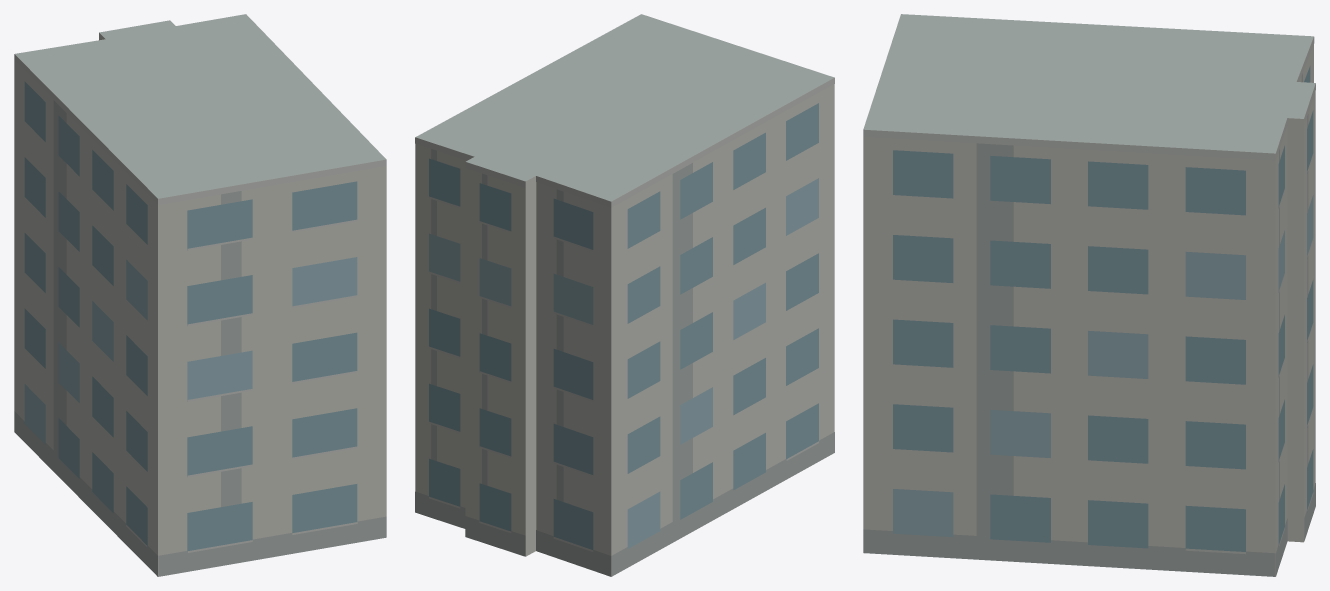
The model's file is survey-upis-32740489.glb.
3 views of the same model, side by side, from view 1: azimuth 30°, elevation 25°; view 2: azimuth 150°, elevation 25°; view 3: azimuth 270°, elevation 25° (orthographic). The views are drawn at different scales.
Parts seen in each view (by area): view 1: survey-upis-32740489.tmp; view 2: survey-upis-32740489.tmp; view 3: survey-upis-32740489.tmp.
Boxes of the visible parts, x1=… form: survey-upis-32740489.tmp: x1=14, y1=14, x2=386, y2=576; survey-upis-32740489.tmp: x1=415, y1=14, x2=834, y2=576; survey-upis-32740489.tmp: x1=863, y1=14, x2=1315, y2=576.
Size of the model in its own units: 10.26 by 14.5 by 14.06.
